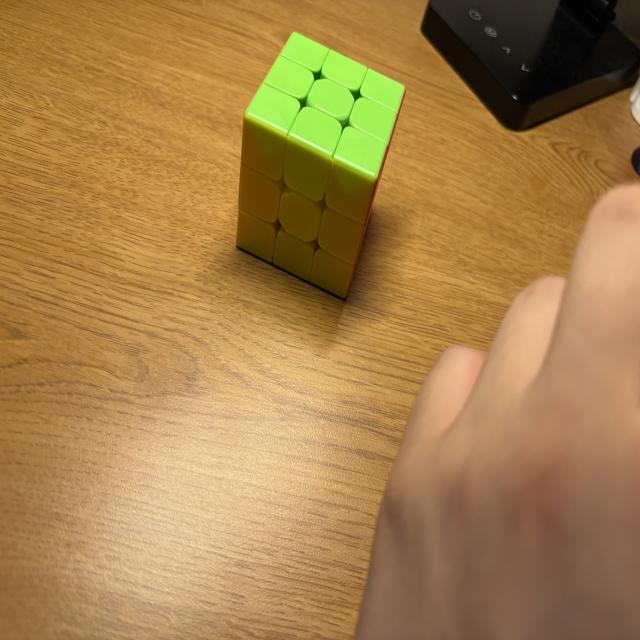Rubiks Cube: (236, 31, 405, 302)
